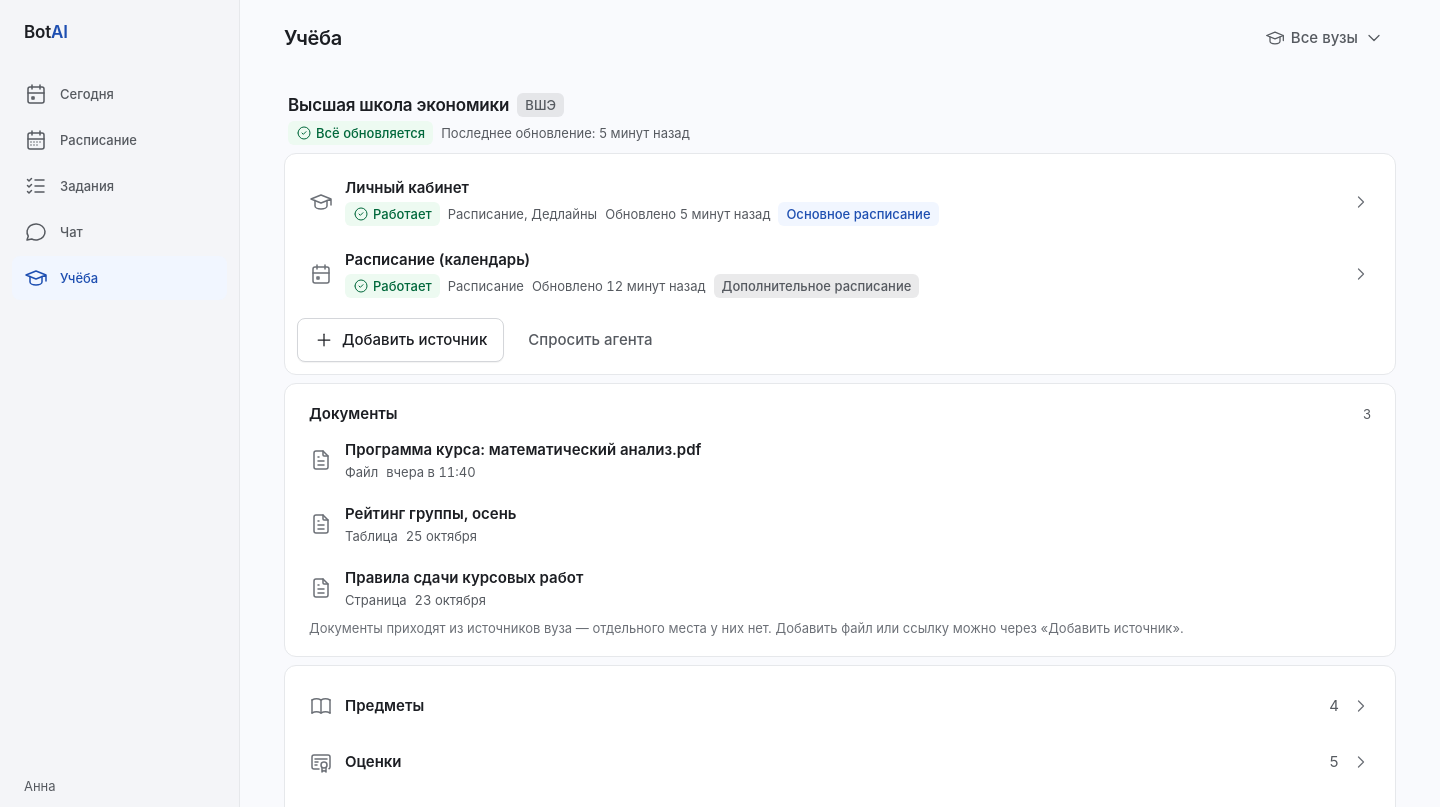
карточка источника › «Перечитать»: запрос к API и честный итог прогона
Step 1. Click the button with aria-label "Личный кабинет:" → (840, 202), box [297,166,1383,238]
(page scrolled)
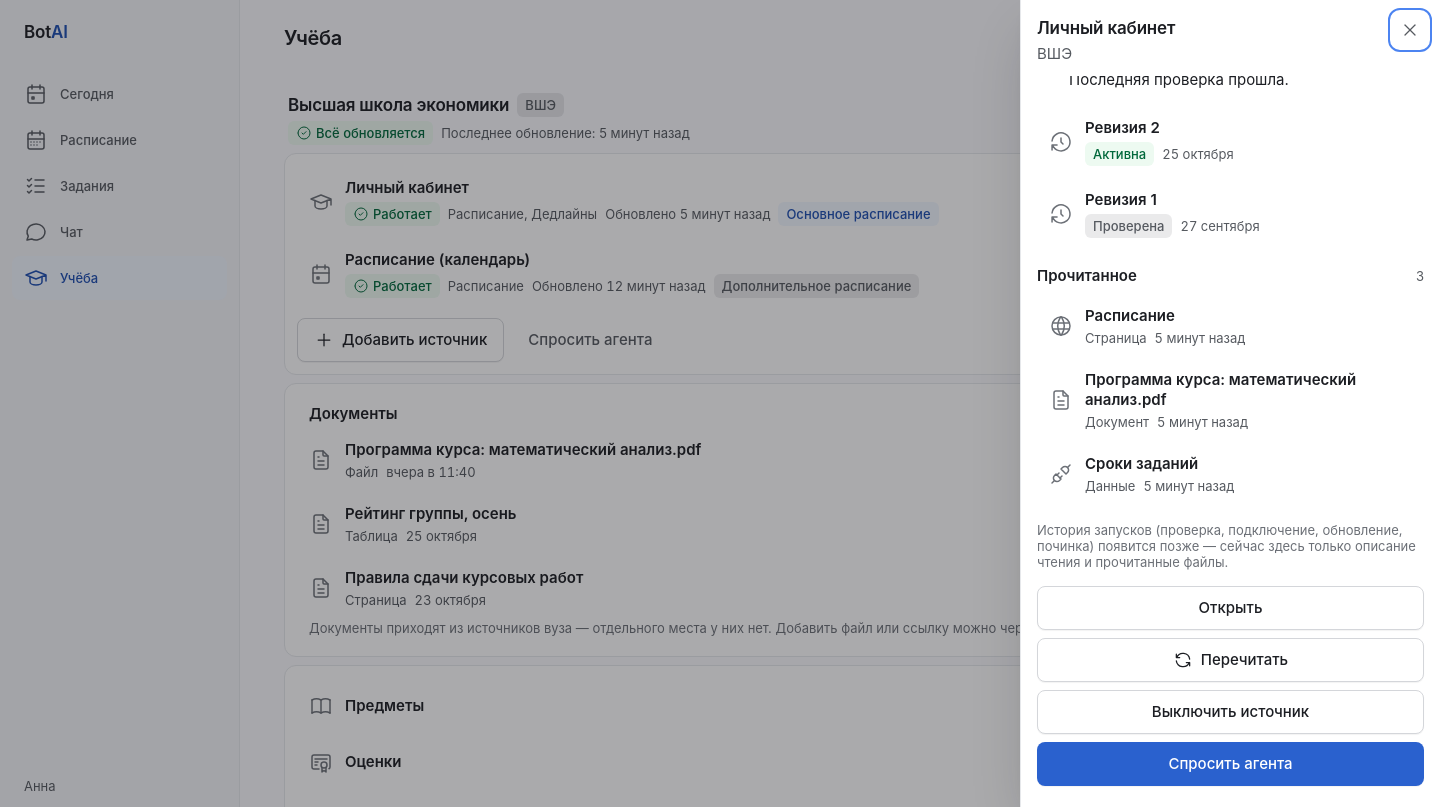
Step 2. Click the button "Перечитать" → (1230, 660), box [1037,638,1424,682]
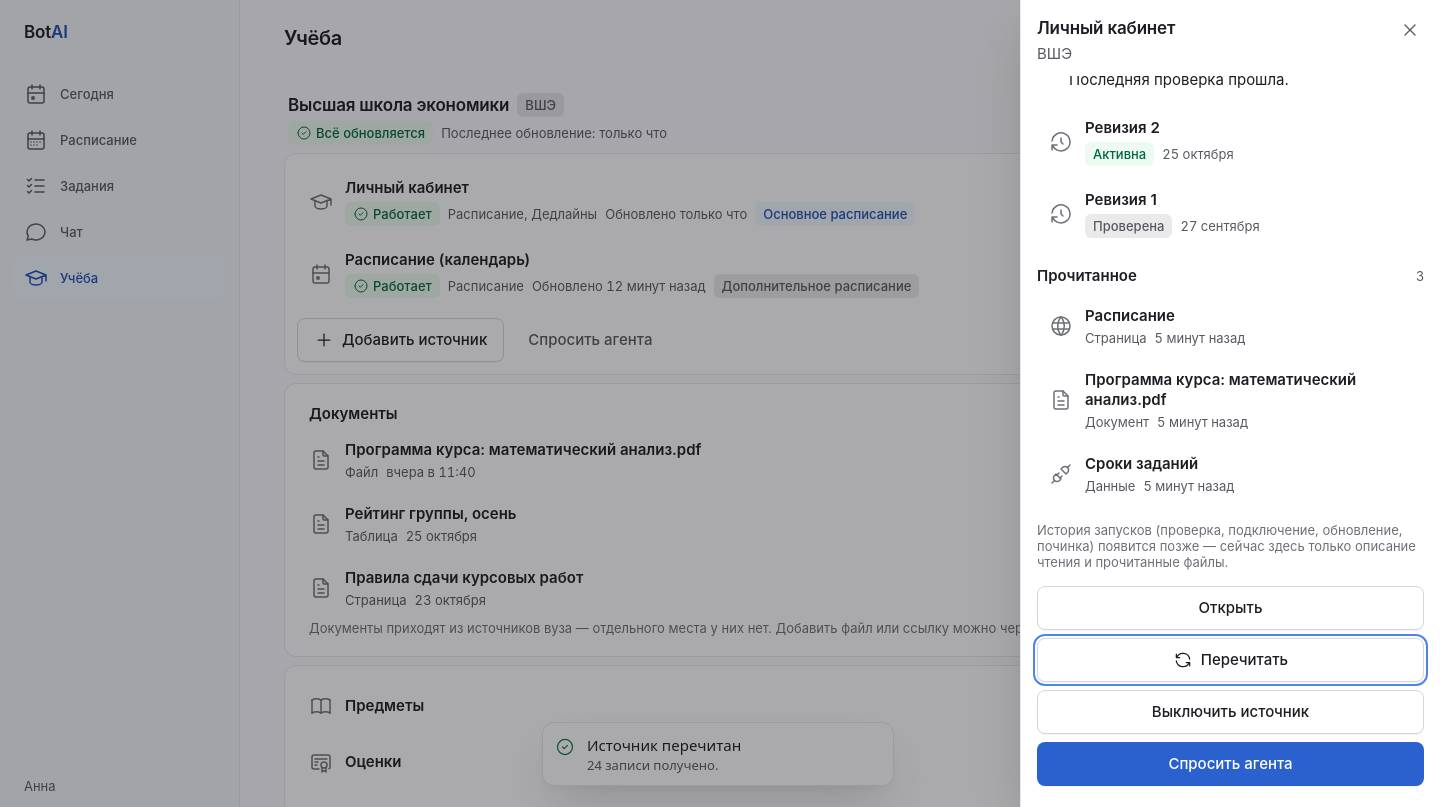
Expected: the text "Источник перечитан" is shown, [587,735,741,755]
